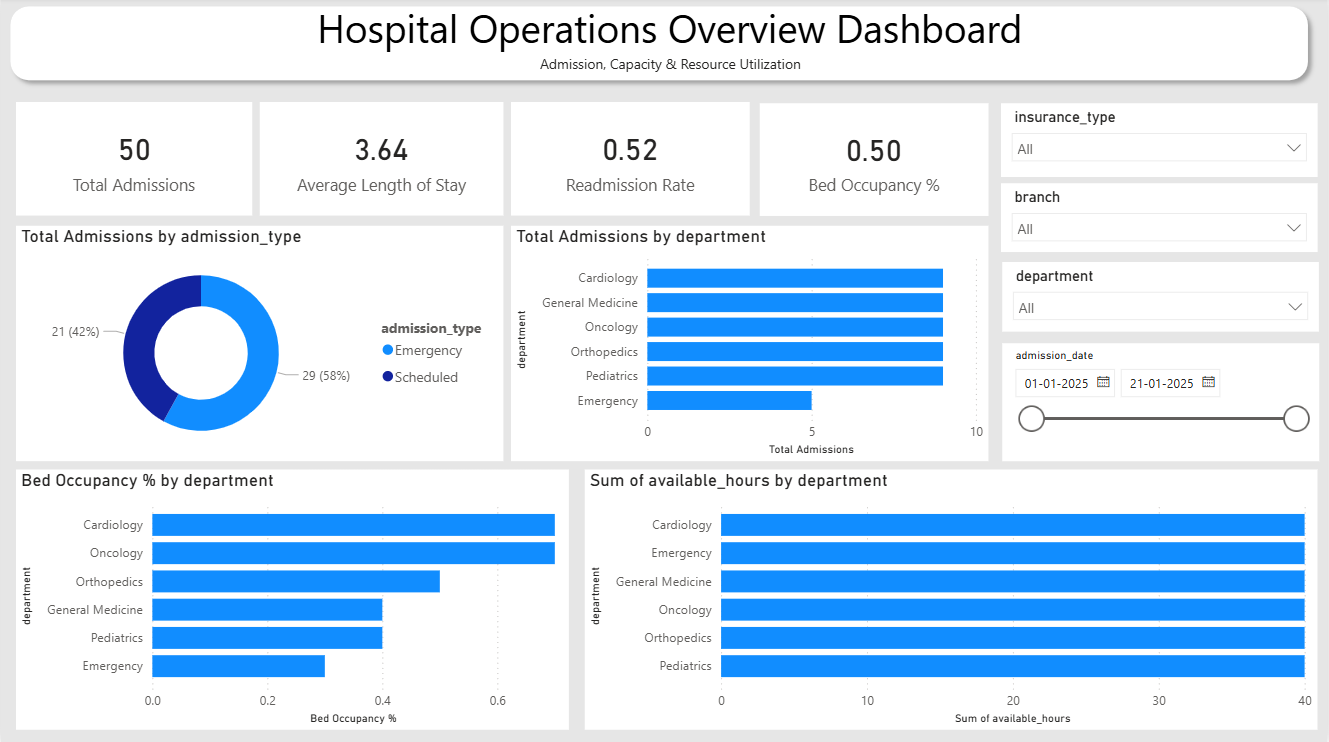

This screenshot's page, from the dashboard's own definition file:
{"tool":"powerbi","page":{"name":"Page 1","canvas":[1280,720],"ordinal":0},"visuals":[{"type":"card","fields":{"Values":["Admissions.Total Admissions"]},"box":[14.5,101.3,228,109.8],"z":0},{"type":"card","fields":{"Values":["Admissions.Avg_stay"]},"box":[249.7,101.3,235.3,109.8],"z":1000},{"type":"card","fields":{"Values":["Beds.Bed Occupancy %"]},"box":[732.3,102.5,220.8,108.6],"z":2000},{"type":"card","fields":{"Values":["Outcomes.Readmission Rate"]},"box":[492.2,101.3,230.4,109.8],"z":3000},{"type":"clusteredBarChart","fields":{"Category":["Admissions.department"],"Y":["Admissions.Total Admissions"]},"box":[492.2,220.8,460.9,226.8],"z":4000},{"type":"donutChart","fields":{"Category":["Admissions.admission_type"],"Y":["Admissions.Total Admissions"]},"box":[14.5,220.8,470.5,226.8],"z":5000},{"type":"barChart","fields":{"Category":["Beds.department"],"Y":["Beds.Bed Occupancy %"]},"box":[14.5,456,533.2,250.9],"z":6000},{"type":"slicer","fields":{"Values":["Admissions.department"]},"box":[966.4,255.8,305.2,67.6],"z":7000},{"type":"slicer","fields":{"Values":["Patients.branch"]},"box":[965.2,179.8,305.2,66.4],"z":8000},{"type":"slicer","fields":{"Values":["Admissions.admission_date"]},"box":[966.4,334.2,305.2,113.4],"z":9000},{"type":"slicer","fields":{"Values":["Patients.insurance_type"]},"box":[965.2,102.5,305.2,71.2],"z":10000},{"type":"clusteredBarChart","fields":{"Category":["Doctors.department"],"Y":["Sum(Doctors.available_hours)"]},"box":[563.4,456,707,250.9],"z":11000},{"type":"shape","box":[0,0,1270.4,89.3],"z":12000},{"type":"textbox","box":[259.4,0,813.1,80.8],"z":13000},{"type":"textbox","box":[515.2,50.7,300.4,38.6],"z":13001}]}

Visuals, with their boxes in screenshot pixels (x1, y1, x2, y2), scaled from the page's 1280x720 canvas onto the 1329x742 screenshot:
card - Admissions.Total Admissions: 15, 104, 252, 218
card - Admissions.Avg_stay: 259, 104, 504, 218
card - Beds.Bed Occupancy %: 760, 106, 990, 218
card - Outcomes.Readmission Rate: 511, 104, 750, 218
clusteredBarChart - Admissions.department x Admissions.Total Admissions: 511, 228, 990, 461
donutChart - Admissions.admission_type x Admissions.Total Admissions: 15, 228, 504, 461
barChart - Beds.department x Beds.Bed Occupancy %: 15, 470, 569, 728
slicer - Admissions.department: 1003, 264, 1320, 333
slicer - Patients.branch: 1002, 185, 1319, 254
slicer - Admissions.admission_date: 1003, 344, 1320, 461
slicer - Patients.insurance_type: 1002, 106, 1319, 179
clusteredBarChart - Doctors.department x Sum(Doctors.available_hours): 585, 470, 1319, 728
shape: 0, 0, 1319, 92
textbox: 269, 0, 1114, 83
textbox: 535, 52, 847, 92
